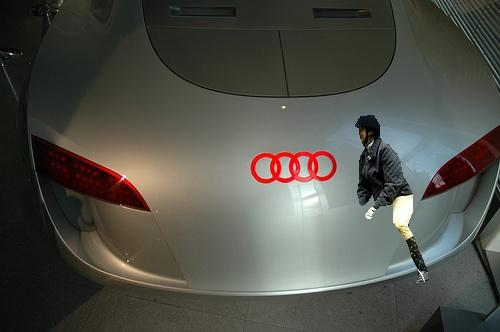tampered: (356, 116, 429, 283)
